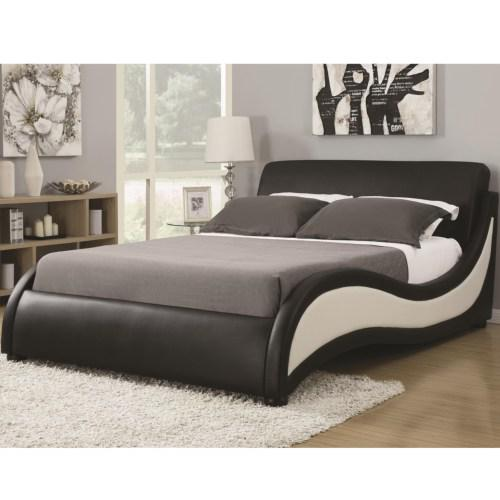bed: (4, 157, 493, 413)
